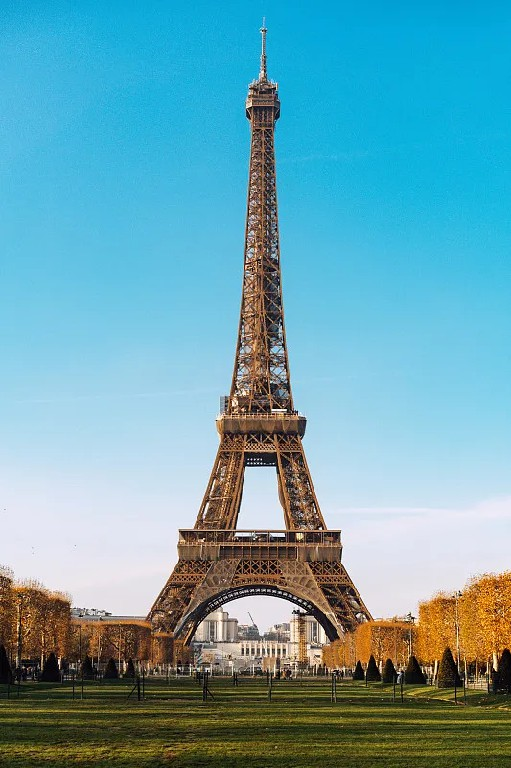Eiffel: (145, 17, 377, 675)
